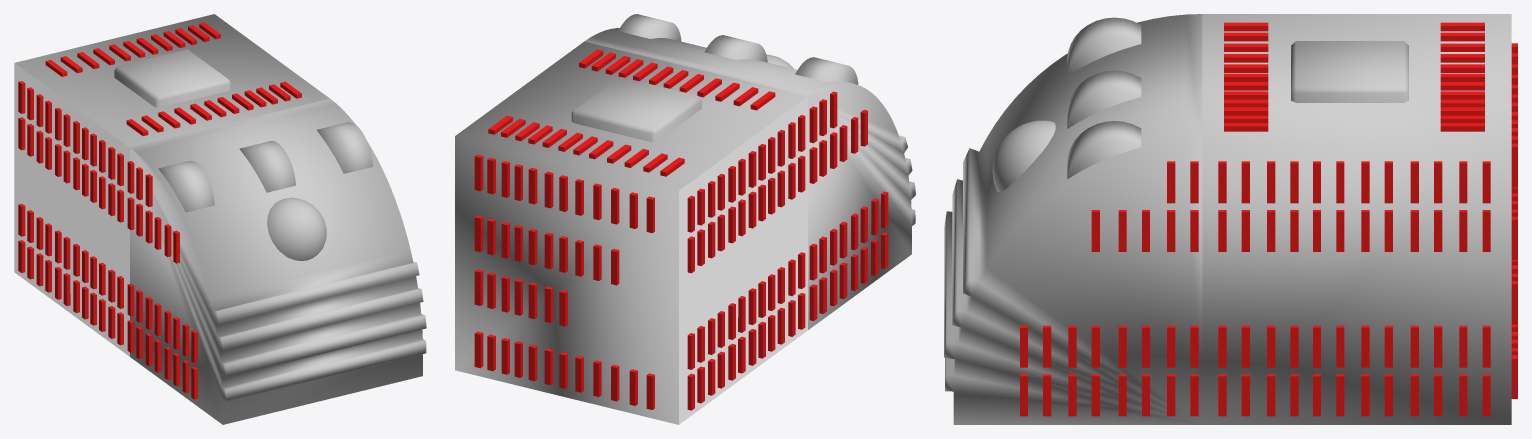
Rendered from Autopilot-Block_Small.fbx.
3 views of the same model, side by side, from view 1: azimuth 30°, elevation 25°; view 2: azimuth 150°, elevation 25°; view 3: azimuth 270°, elevation 25° (orthographic). The views are drawn at different scales.
Visible parts, largest first — view 1: Cube.132, Cube.136, Cylinder.119, Cube.131, Sphere.031; view 2: Cube.132, Cube.136, Cube.131, Cylinder.119; view 3: Cube.132, Cube.136, Cylinder.119, Cube.131, Sphere.031.
Part boxes in pixels (bbox=[...]): Cube.132: bbox=[14, 14, 426, 424]; Cube.136: bbox=[18, 22, 301, 399]; Cylinder.119: bbox=[158, 122, 372, 212]; Cube.131: bbox=[114, 49, 230, 107]; Sphere.031: bbox=[267, 197, 326, 260]; Cube.132: bbox=[455, 28, 915, 424]; Cube.136: bbox=[474, 49, 888, 410]; Cube.131: bbox=[571, 77, 701, 141]; Cylinder.119: bbox=[618, 14, 858, 84]; Cube.132: bbox=[944, 14, 1511, 424]; Cube.136: bbox=[1020, 22, 1517, 416]; Cylinder.119: bbox=[1067, 17, 1141, 178]; Cube.131: bbox=[1291, 41, 1408, 102]; Sphere.031: bbox=[992, 120, 1055, 192].
Bounding box in the file's own units: 0.517 × 0.5253 × 0.9275.
